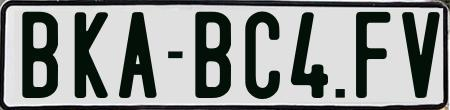4: (291, 9, 334, 100)
A: (118, 10, 157, 98)
B: (21, 11, 63, 101), (192, 11, 233, 97)
C: (243, 10, 281, 104)
F: (356, 11, 393, 101)
K: (74, 12, 110, 100)
V: (399, 9, 434, 97)
